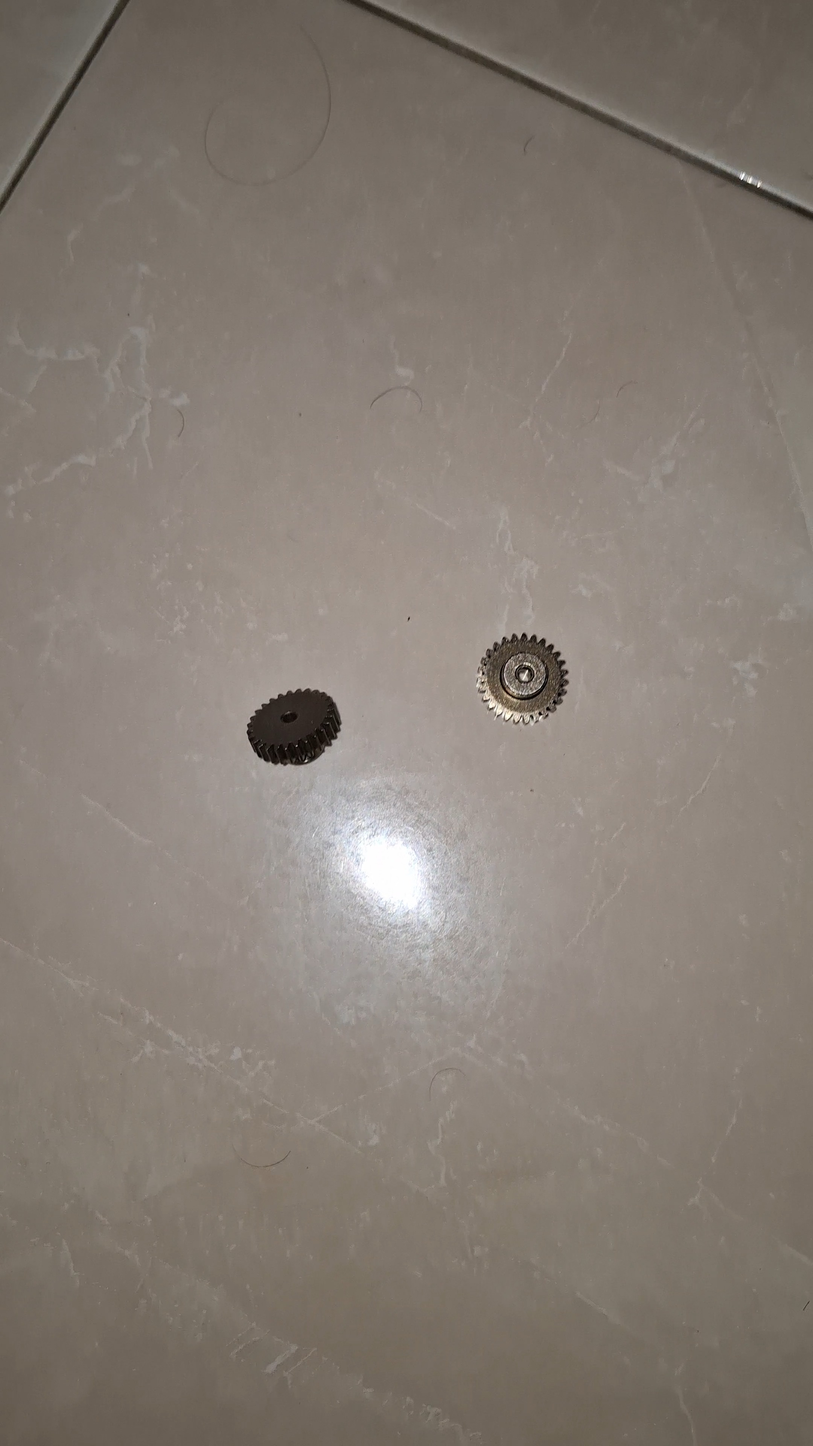spur gear: (478, 633, 567, 723), (247, 689, 340, 764)
